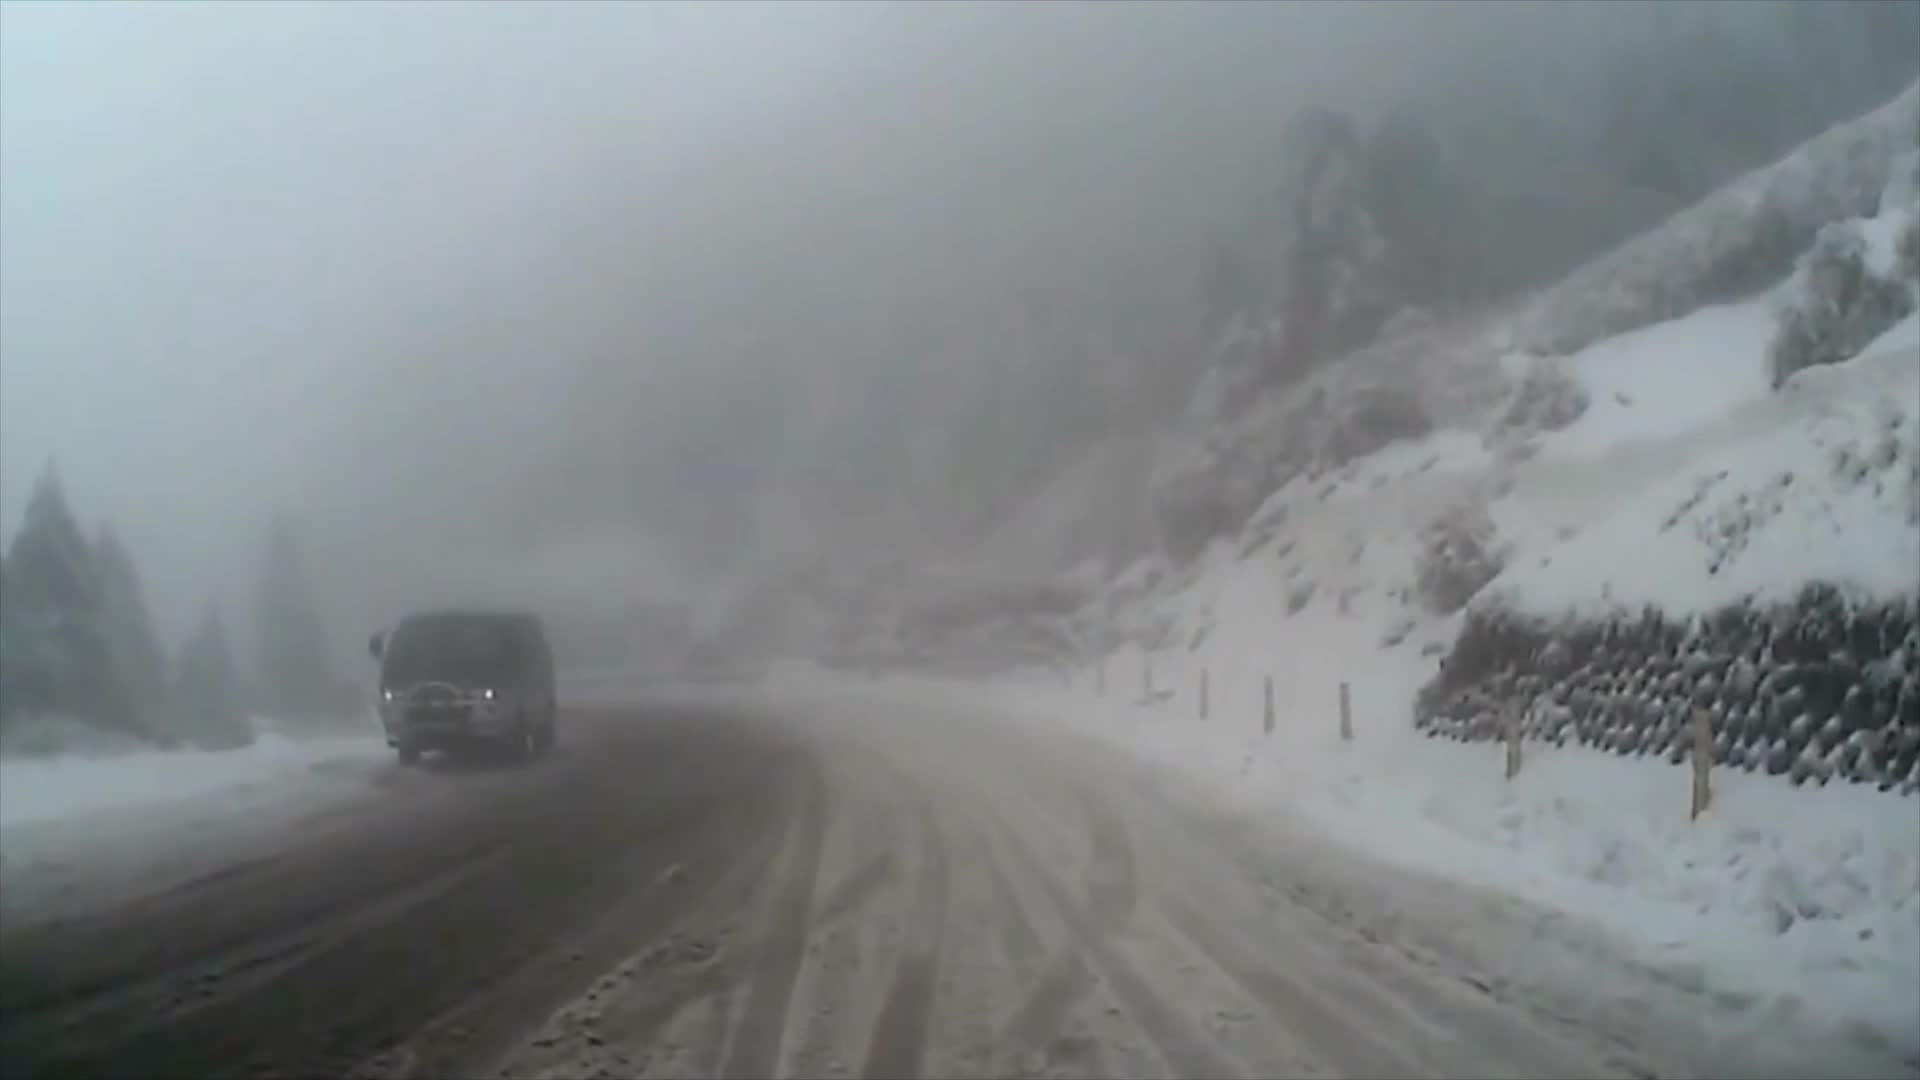vehicle: (365, 607, 556, 767)
